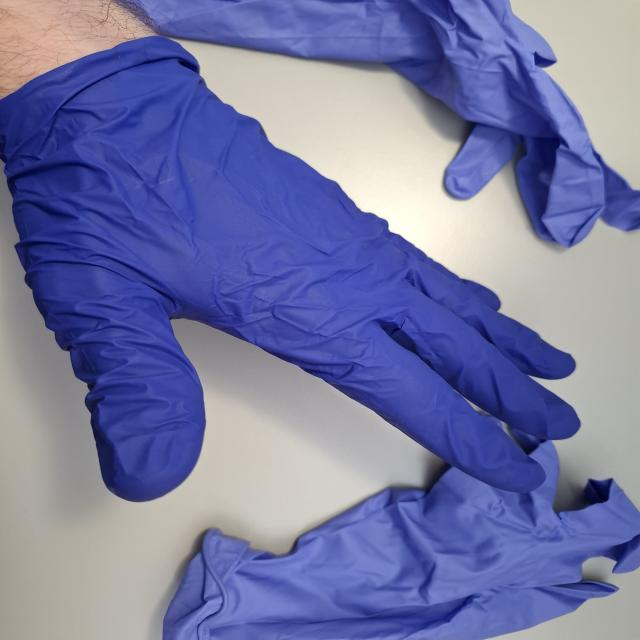glove_on: (0, 31, 593, 508)
